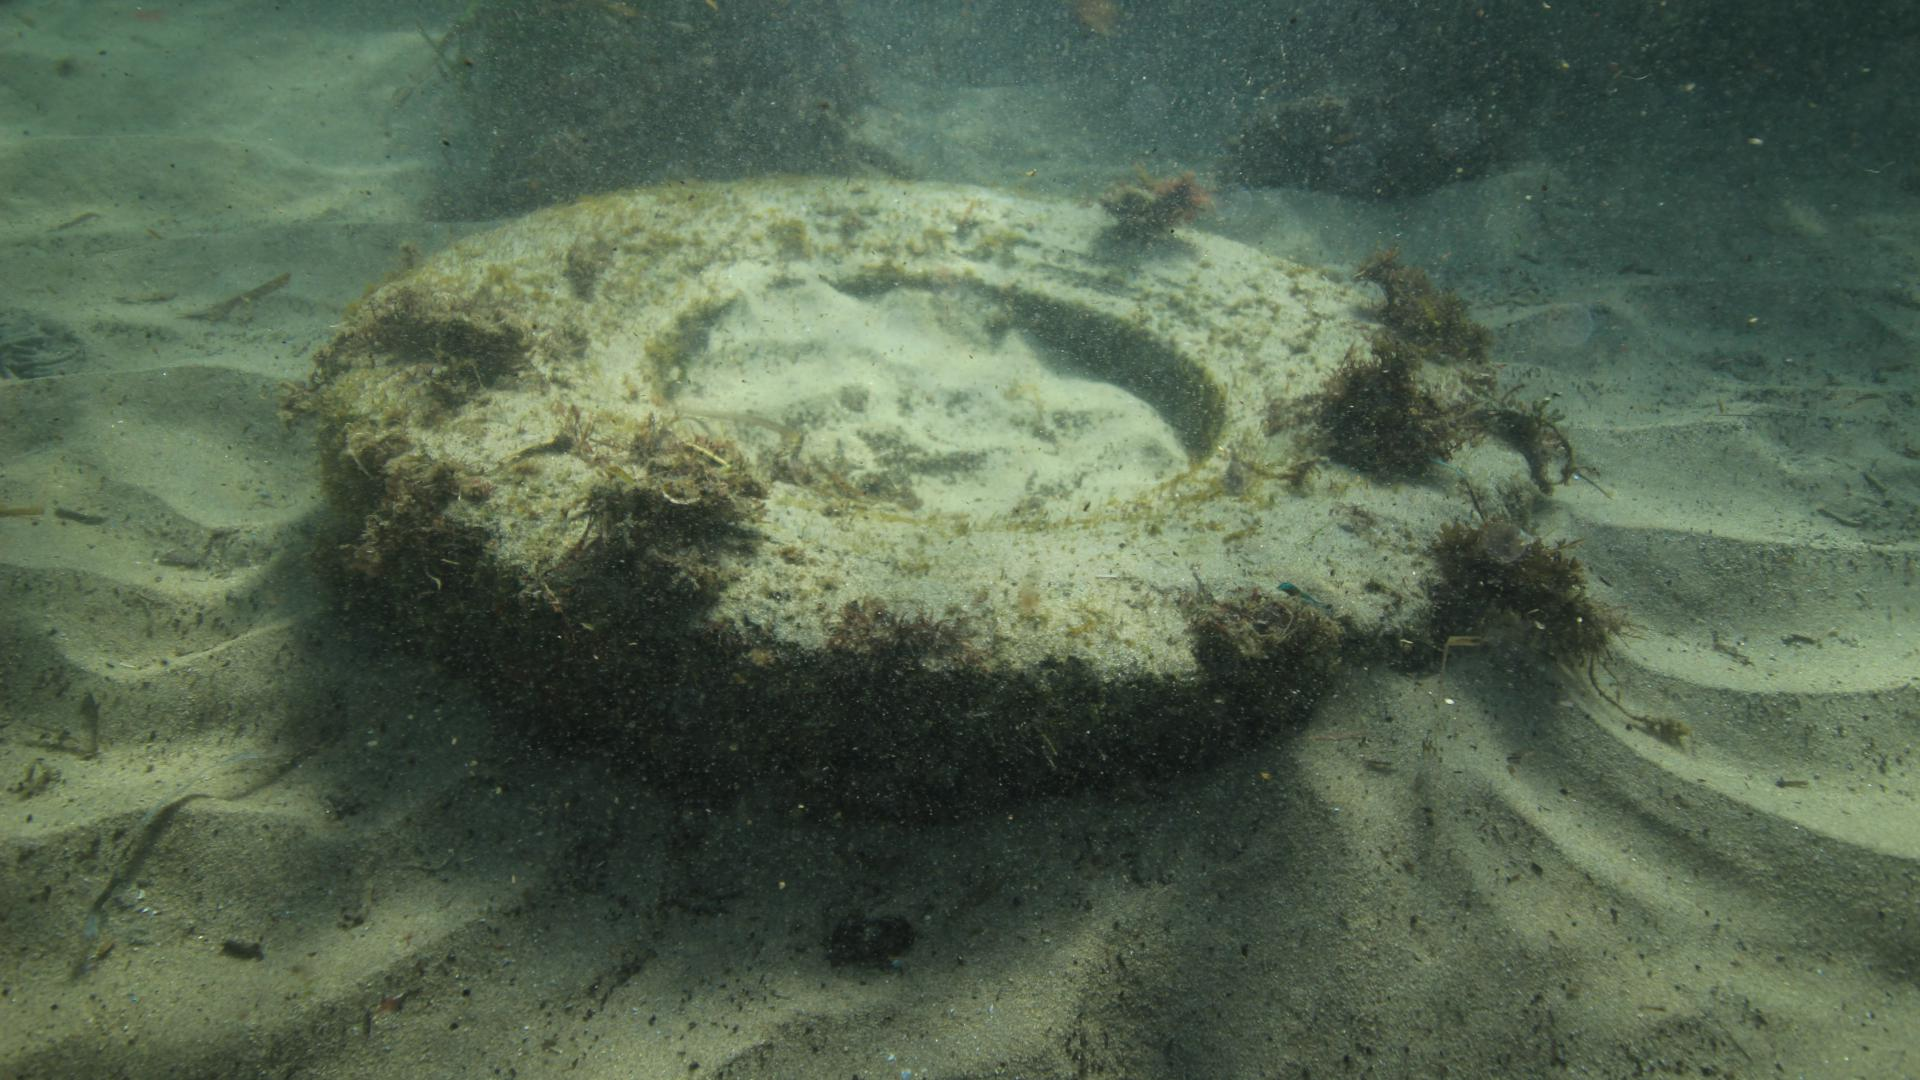tire: (319, 171, 1528, 827)
